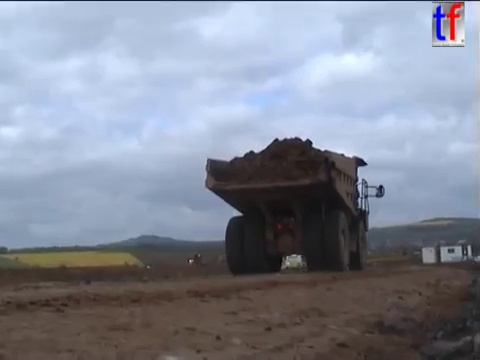truck: (202, 147, 389, 277)
